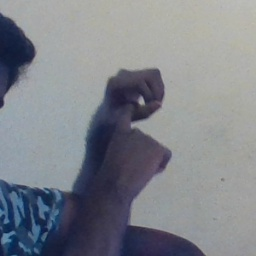Q: (87, 61, 184, 190)
